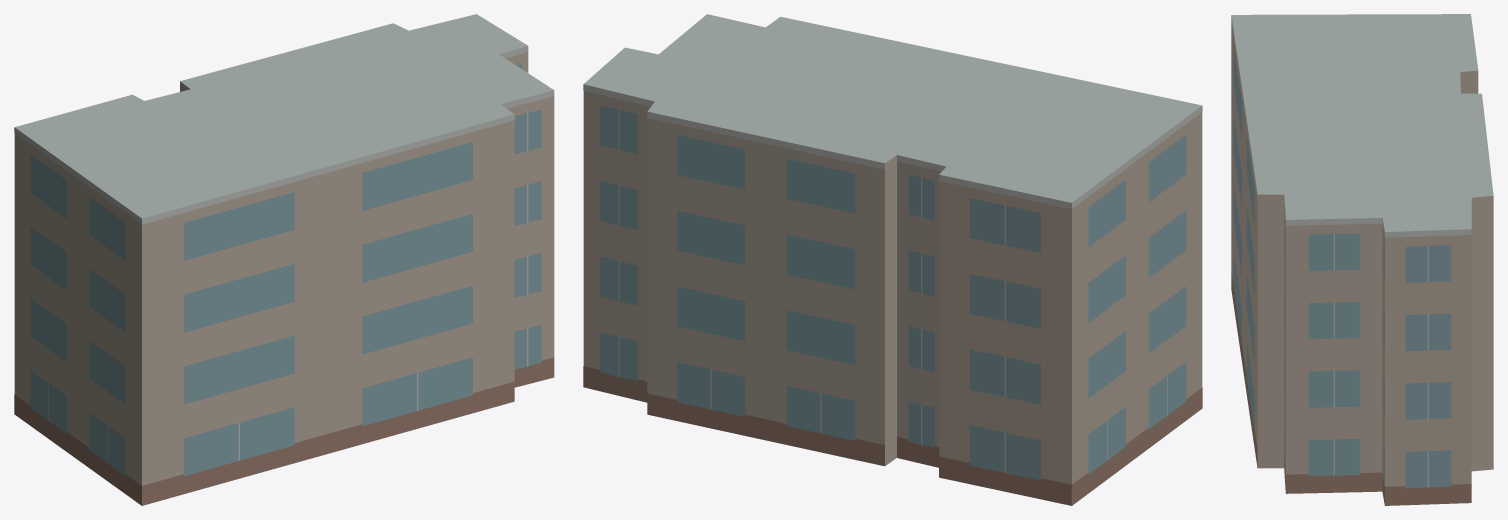
The model's file is survey-upis-32639403.glb.
3 renders of one model, left to right at view 1: azimuth 30°, elevation 25°; view 2: azimuth 150°, elevation 25°; view 3: azimuth 270°, elevation 25°, orthographic. The views are drawn at different scales.
Visible parts, largest first — view 1: survey-upis-32639403.tmp; view 2: survey-upis-32639403.tmp; view 3: survey-upis-32639403.tmp.
Part boxes in pixels (x1,y1,x2,y2): survey-upis-32639403.tmp: (14, 14, 554, 505); survey-upis-32639403.tmp: (583, 14, 1202, 505); survey-upis-32639403.tmp: (1231, 14, 1493, 505).
Size of the model in its own units: 20 by 11.7 by 10.17.
